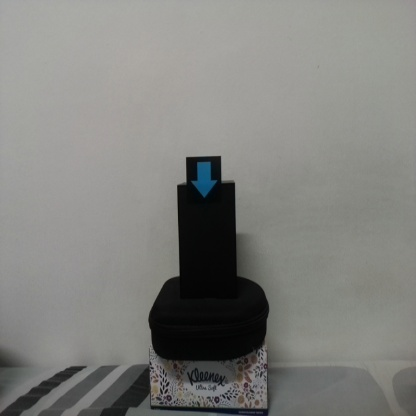id_2: (186, 157, 222, 208)
